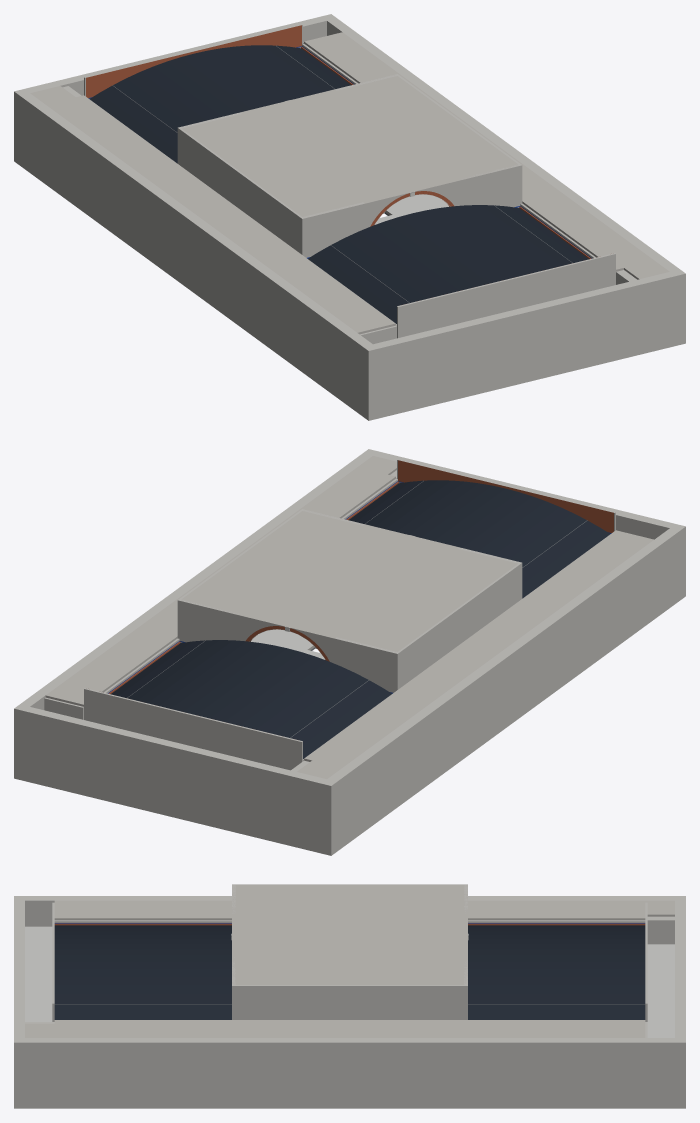
File: ug-shell.glb
3 renders of one model, top to bottom at view 1: azimuth 30°, elevation 25°; view 2: azimuth 150°, elevation 25°; view 3: azimuth 270°, elevation 25°, orthographic. The views are drawn at different scales.
Visible parts, largest first — view 1: ug-shell; view 2: ug-shell; view 3: ug-shell.
Boxes of the visible parts, x1,y1,x2,y2 form: ug-shell: (14,14,685,420); ug-shell: (14,449,685,855); ug-shell: (14,884,685,1108).
Size of the model in its own units: 47 by 15 by 91.
